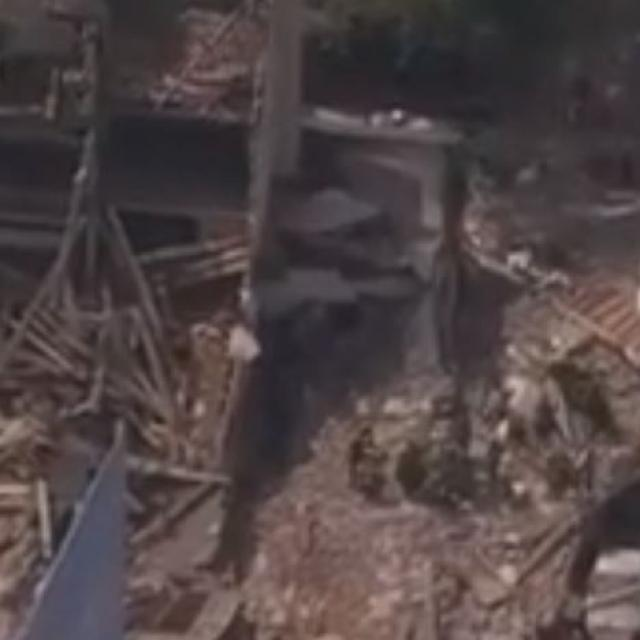collapsed_building: (13, 0, 430, 507)
